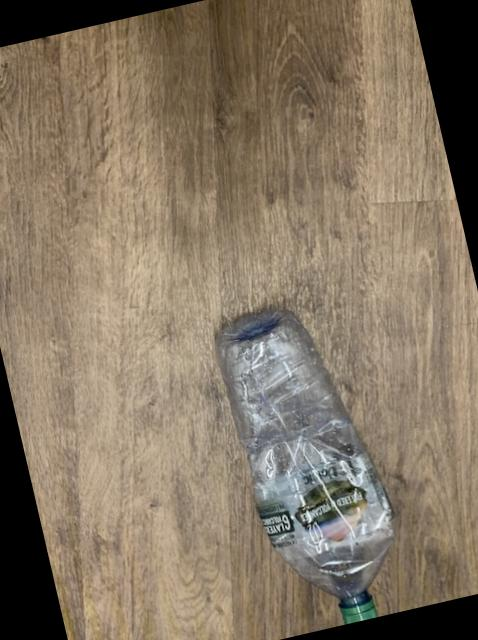plastic: (218, 312, 395, 624)
